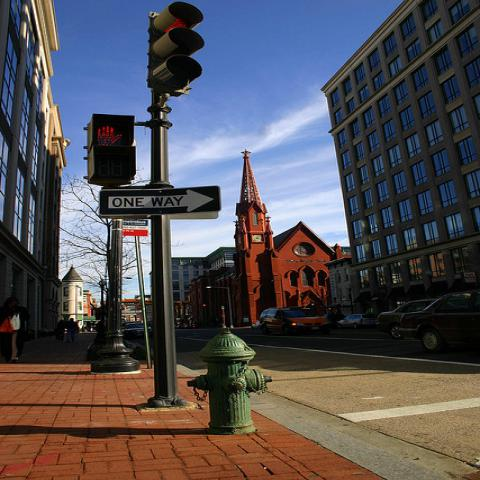car: (399, 291, 479, 351), (376, 298, 438, 339), (259, 308, 332, 335), (336, 313, 378, 329), (122, 324, 145, 336), (121, 321, 143, 327), (180, 324, 196, 329), (252, 320, 260, 330)
